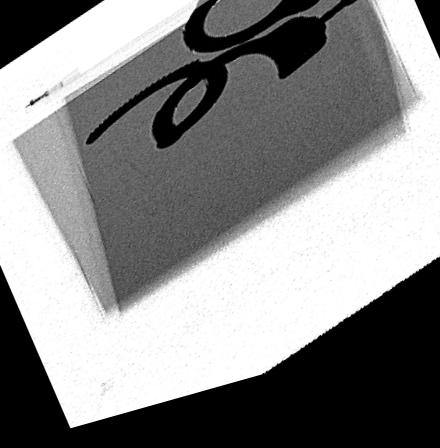HandCuffs: (84, 0, 373, 158), (182, 0, 340, 65)
